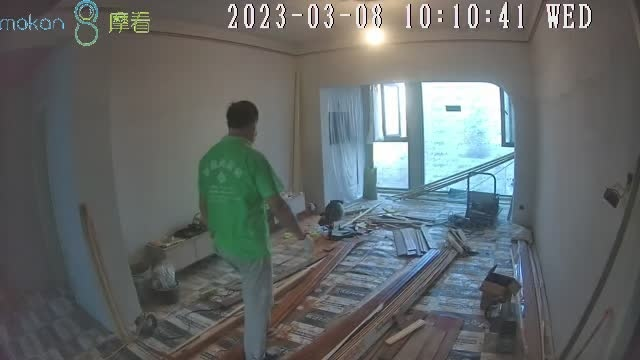people: (197, 100, 307, 360)
window: (368, 83, 515, 194)
